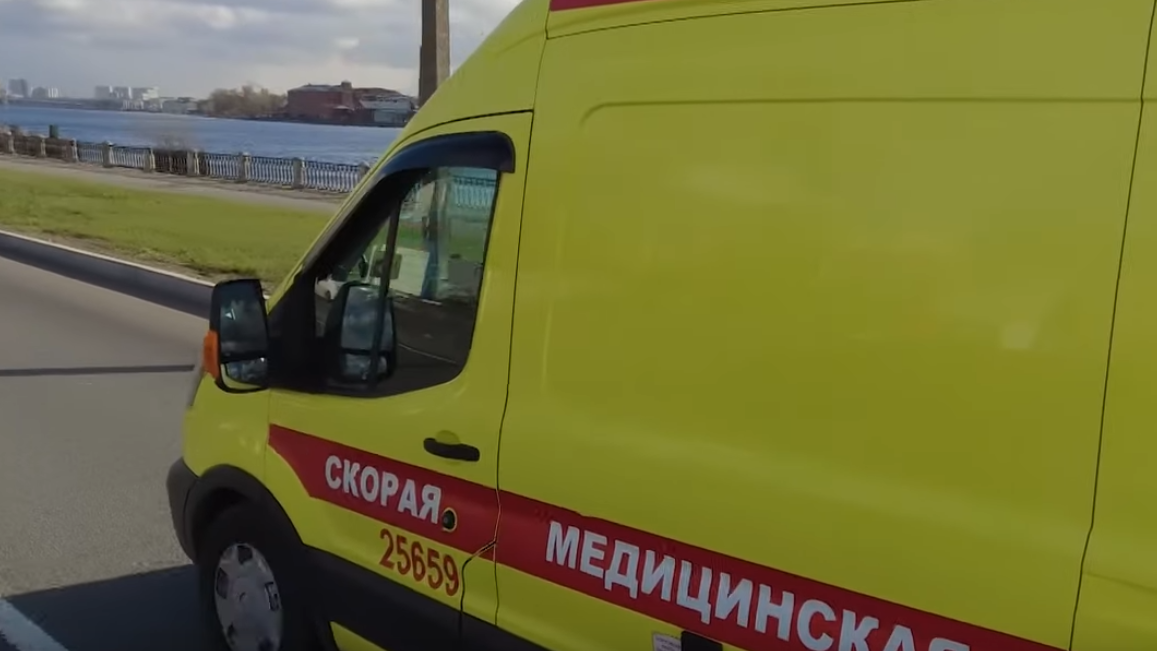intensive care unit: (166, 0, 1157, 651)
